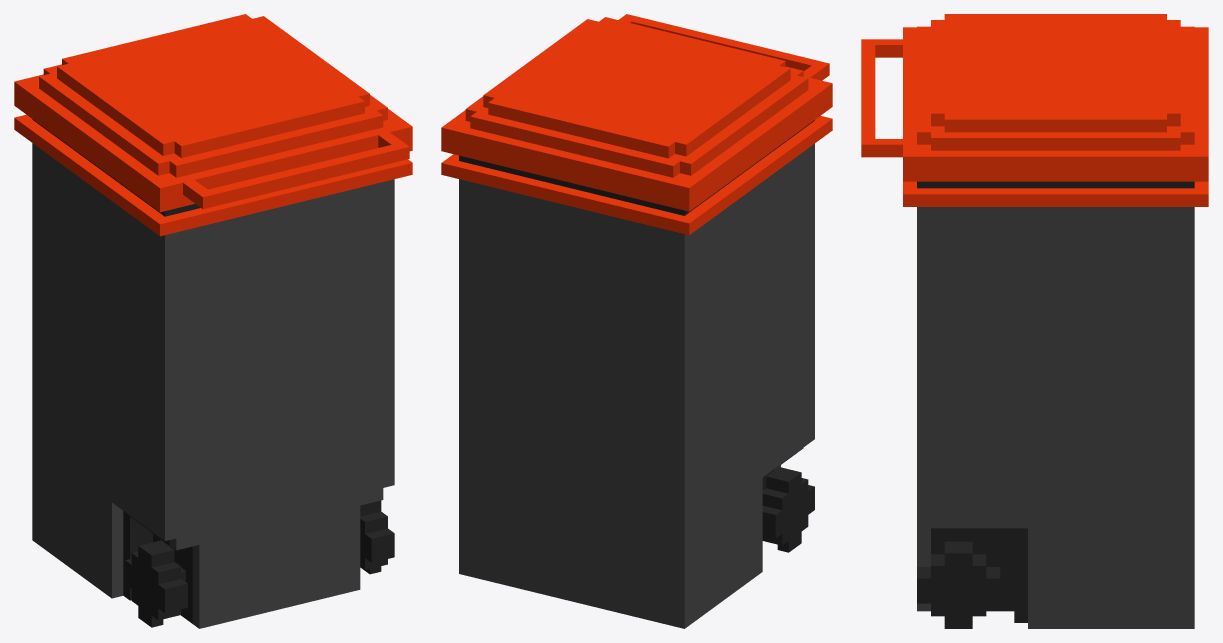
Rendered from trashCan.obj.
3 views of the same model, side by side, from view 1: azimuth 30°, elevation 25°; view 2: azimuth 150°, elevation 25°; view 3: azimuth 270°, elevation 25° (orthographic). The views are drawn at different scales.
Size of the model in its own units: 2.2 by 4 by 2.5.
1 material, 1 textured.
